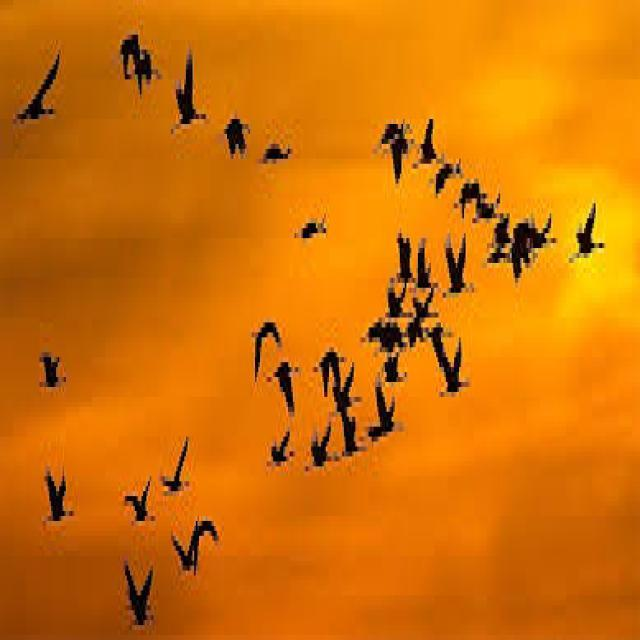bird: (490, 204, 560, 288), (15, 35, 66, 144), (166, 32, 212, 152), (37, 456, 85, 556), (29, 322, 75, 417), (124, 560, 164, 636), (438, 226, 476, 306), (569, 193, 607, 273), (158, 419, 196, 499), (299, 416, 334, 502), (248, 302, 286, 378), (288, 191, 336, 251), (375, 112, 410, 192), (114, 5, 148, 84), (425, 146, 465, 211), (438, 347, 472, 422), (266, 422, 298, 492), (338, 422, 374, 482), (372, 386, 400, 462), (175, 520, 202, 596), (450, 166, 490, 216), (256, 129, 300, 174), (316, 332, 346, 397), (122, 481, 160, 531), (273, 360, 303, 420), (136, 52, 163, 116), (364, 312, 400, 358), (228, 112, 258, 166), (198, 488, 222, 554), (392, 223, 416, 283), (383, 275, 410, 325), (472, 191, 504, 231), (413, 238, 433, 298), (379, 354, 417, 384), (412, 126, 439, 166), (407, 315, 427, 360)
